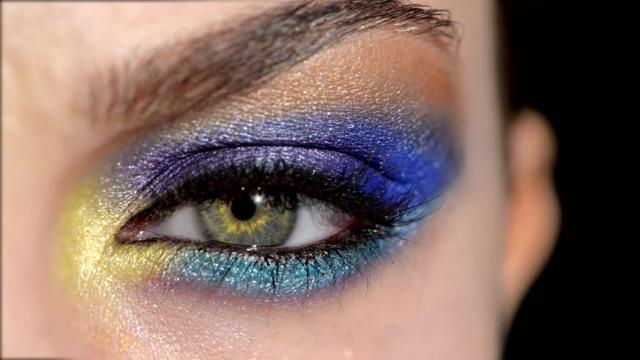eye: (192, 165, 300, 251)
